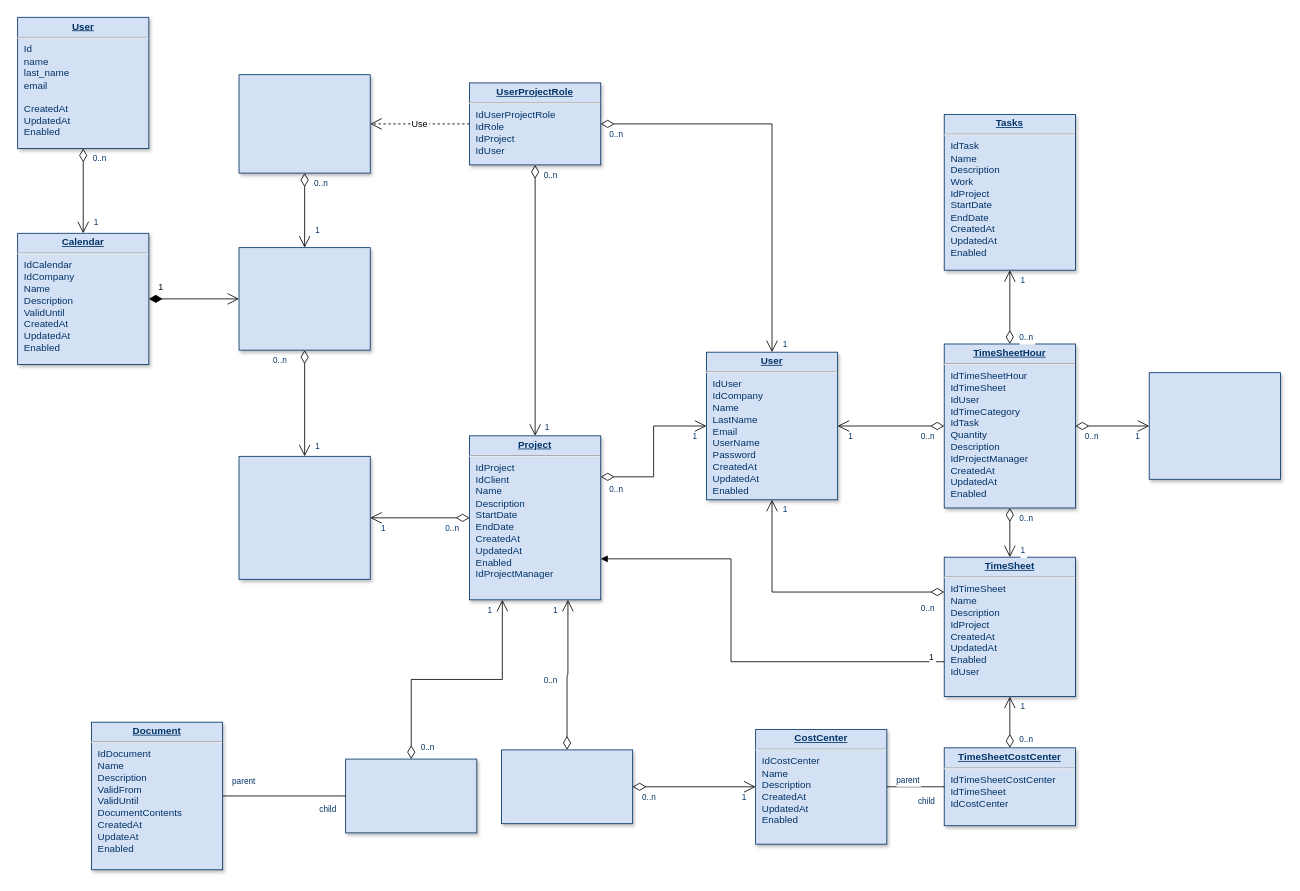
The diagram is 1300 pixels wide and 891 high, and some of its shapes have lost their labels. The shapes that lost their labels are listed below. From the top down, each one's centre as x and y in pixels, then its label:
At point 305,125: "Role IdCompany Name Description CreatedAt UpdatedAt Enabled".
At point 305,300: "Company Name Description CreatedAt UpdatedAt Enabled".
At point 1215,427: "TimeCategory IdTimeCategory Name Description CreatedAt UpdatedAt Enabled".
At point 305,518: "Client IdClient IdCompany Name Description CreatedAt UpdatedAt Enabled".
At point 412,797: "ProjectDocument IdProjectDocument IdProject IdDocument".
At point 567,787: "ProjectCostCenter IdProjectCostCenter IdProject IdCostCenter".
